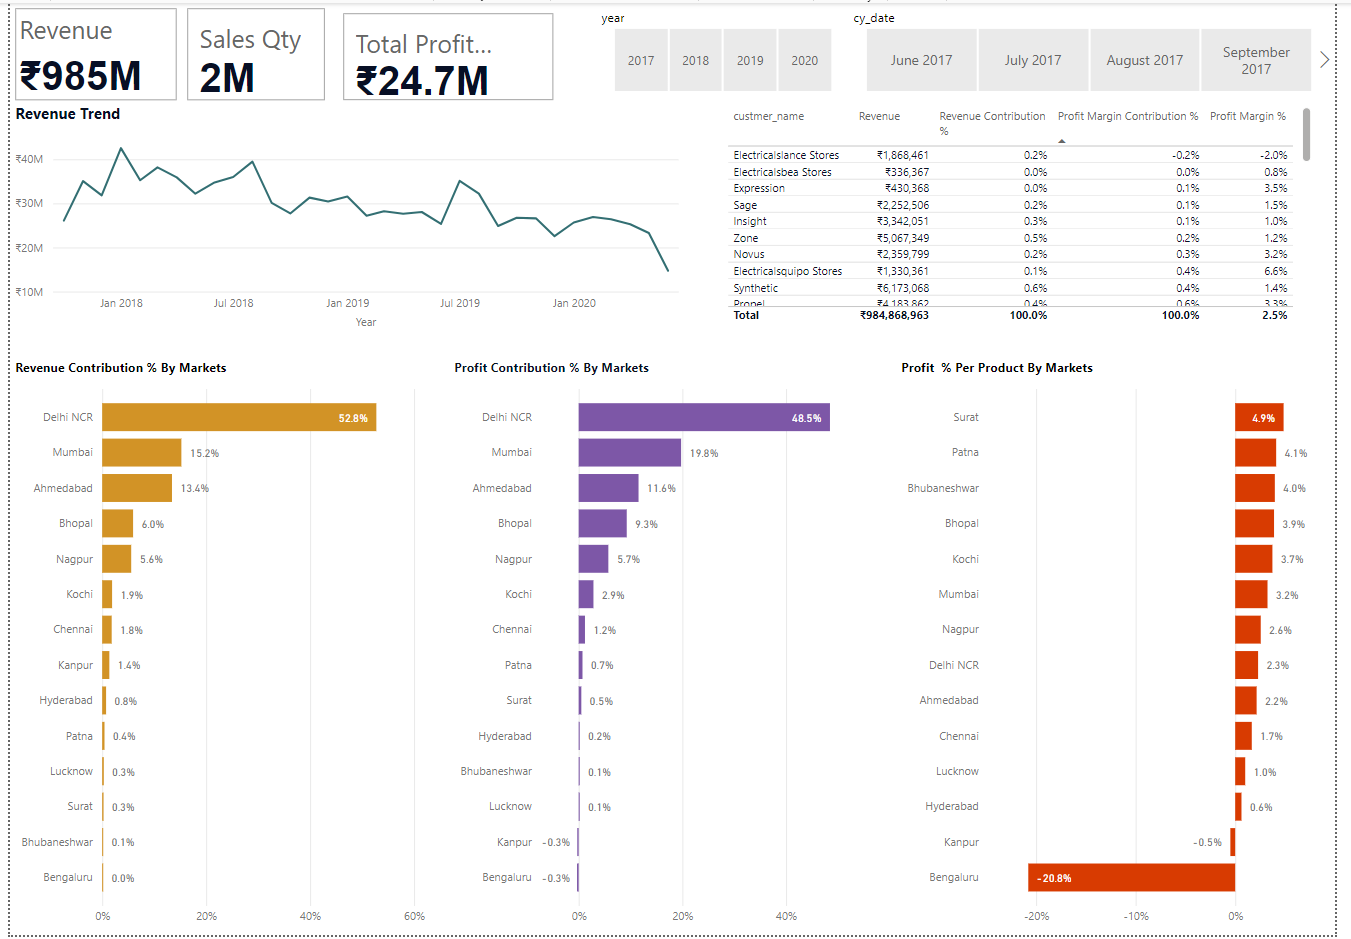

What the dashboard file says about the page in this screenshot:
{"tool":"powerbi","page":{"name":"Profit Analysis","canvas":[1280,900],"ordinal":1},"visuals":[{"type":"cardVisual","fields":{"Data":["Base_Measures.Revenue"]},"box":[0,0,166.1,99.5],"z":0},{"type":"cardVisual","fields":{"Data":["Base_Measures.Sales Qty"]},"box":[166.1,0,143.9,99.5],"z":1000},{"type":"clusteredBarChart","title":"Profit  % Per Product By Markets","fields":{"Category":["sales_markets.markets_name"],"Y":["Base_Measures.Profit Margin %"]},"box":[855.6,343.8,415.2,556.2],"z":2000},{"type":"clusteredBarChart","title":"Profit Contribution % By Markets","fields":{"Category":["sales_markets.markets_name"],"Y":["Base_Measures.Profit Margin COntribution %"]},"box":[423.9,343.8,419.1,556.2],"z":3000},{"type":"slicer","fields":{"Values":["sales_date.year"]},"box":[558.2,0,258.8,91.7],"z":4000},{"type":"slicer","fields":{"Values":["sales_date.cy_date"]},"box":[801.5,0,479,91.7],"z":5000},{"type":"tableEx","title":"Top 5 Customers","fields":{"Values":["sales_customers.custmer_name","Base_Measures.Revenue","Base_Measures.Revenue Contribution %","Base_Measures.Profit Margin Contribution %","Base_Measures.Profit Margin %"]},"box":[687.6,95.6,573.6,218.2],"z":6000},{"type":"lineChart","title":"Revenue Trend","fields":{"Y":["Base_Measures.Revenue"],"Category":["sales_date.cy_date.Variation.Date Hierarchy.Year","sales_date.cy_date.Variation.Date Hierarchy.Quarter","sales_date.cy_date.Variation.Date Hierarchy.Month","sales_date.cy_date.Variation.Date Hierarchy.Day"]},"box":[0,95.6,661.5,224],"z":8000},{"type":"cardVisual","fields":{"Data":["Base_Measures.Total Profit MArgin"]},"box":[316.7,4.8,213.4,94.6],"z":9000},{"type":"clusteredBarChart","title":"Revenue Contribution % By Markets","fields":{"Category":["sales_markets.markets_name"],"Y":["Base_Measures.Revenue Contribution %"]},"box":[0,343.8,406.5,556.2],"z":10000}]}

Visuals, with their boxes in screenshot pixels (x1, y1, x2, y2), scaled from the page's 1280x900 canvas onto the 1351x939 screenshot:
cardVisual - Base_Measures.Revenue: 0,0,175,104
cardVisual - Base_Measures.Sales Qty: 175,0,327,104
"Profit  % Per Product By Markets" clusteredBarChart: 903,359,1341,938
"Profit Contribution % By Markets" clusteredBarChart: 447,359,890,938
slicer - sales_date.year: 589,0,862,96
slicer - sales_date.cy_date: 846,0,1350,96
"Top 5 Customers" tableEx: 726,100,1331,327
"Revenue Trend" lineChart: 0,100,698,333
cardVisual - Base_Measures.Total Profit MArgin: 334,5,560,104
"Revenue Contribution % By Markets" clusteredBarChart: 0,359,429,938
